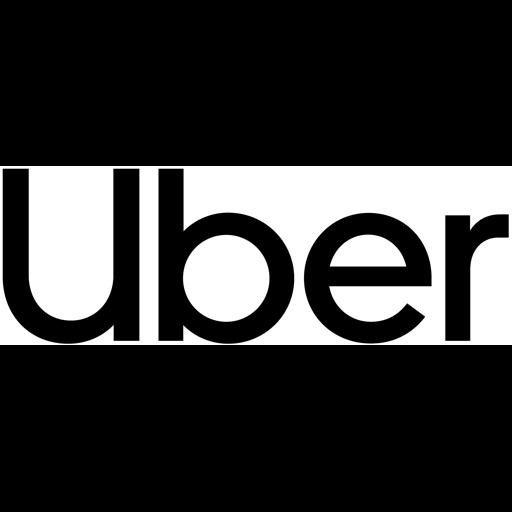Uber: (0, 166, 512, 345)
